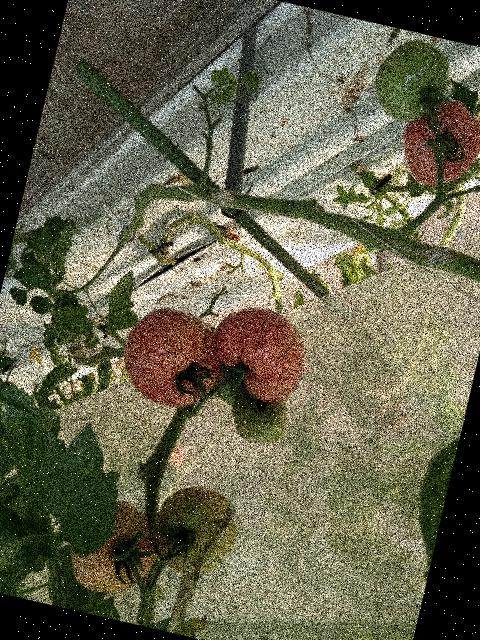b_fully_ripened: (201, 298, 314, 409), (392, 89, 480, 194)
b_green: (144, 478, 246, 584), (366, 32, 457, 130), (223, 384, 293, 450), (206, 360, 250, 406)
b_half_ripened: (113, 299, 234, 416), (63, 492, 168, 603)
